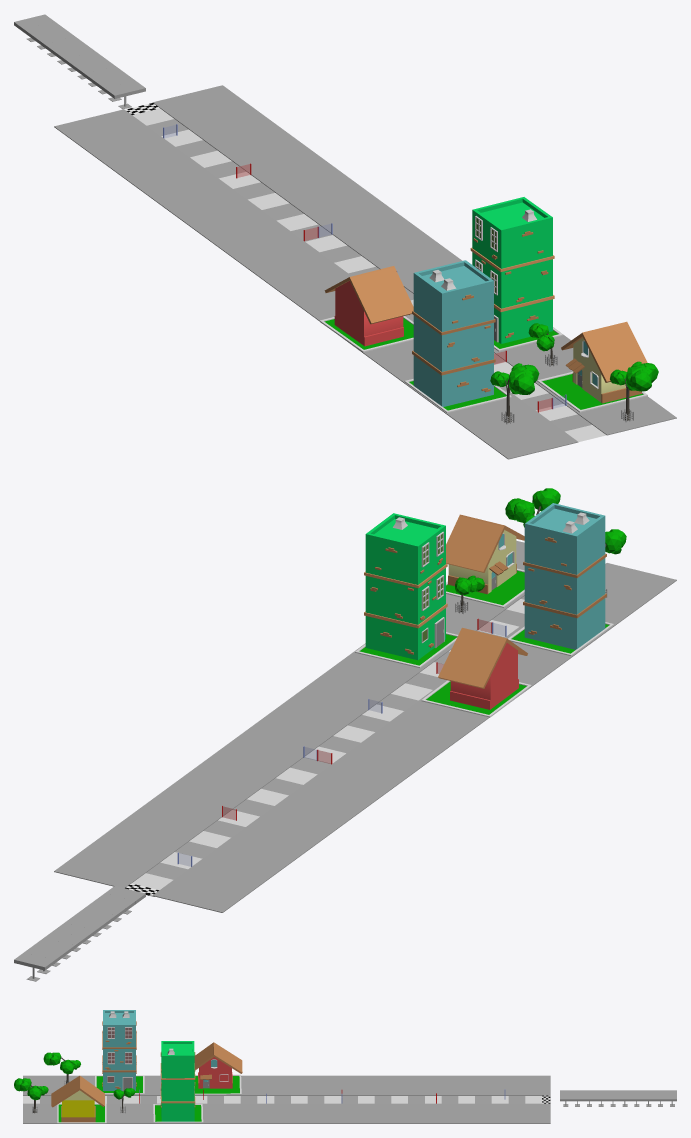
The model's file is Pizza oyunu yol ve binalar.fbx.
3 views of the same model, one above another, from view 1: azimuth 30°, elevation 25°; view 2: azimuth 150°, elevation 25°; view 3: azimuth 270°, elevation 25° (orthographic). The views are drawn at different scales.
Visible parts, largest first — view 1: pCube104, pCube55, bina (×2), pCube69 (×2), pCube61, pCube62, pCube77, pCube162, pCube76; view 2: pCube55, pCube104, bina (×2), pCube69 (×2), pCube62, pCube61, pCube77, pCube162, pCube167, pCube76; view 3: pCube55, pCube104, bina (×2), pCube69 (×2), pCube62 (×2), pCube61 (×2), pCube162, Icosphere (×2), pCube77, pCube167, pCube76.
Part boxes in pixels (x1,y1,x2,y2): pCube104: (54, 109, 578, 459); pCube55: (152, 85, 676, 435); bina (×2): (412, 197, 554, 406); pCube69 (×2): (334, 281, 641, 403); pCube61: (349, 267, 413, 324); pCube62: (581, 321, 647, 382); pCube77: (537, 371, 647, 412); pCube162: (319, 316, 413, 352); pCube76: (404, 379, 511, 412); pCube55: (54, 540, 524, 888); pCube104: (152, 563, 676, 912); bina (×2): (364, 503, 606, 660); pCube69 (×2): (448, 530, 518, 709); pCube62: (438, 627, 507, 688); pCube61: (446, 516, 505, 572); pCube77: (446, 568, 524, 607); pCube162: (421, 680, 531, 717); pCube167: (355, 632, 458, 667); pCube76: (508, 622, 613, 656); pCube55: (23, 1103, 550, 1123); pCube104: (23, 1075, 550, 1095); bina (×2): (102, 1010, 195, 1121); pCube69 (×2): (61, 1057, 232, 1122); pCube62 (×2): (51, 1042, 242, 1107); pCube61 (×2): (80, 1043, 213, 1106); pCube162: (194, 1074, 241, 1094); Icosphere (×2): (14, 1052, 61, 1091); pCube77: (57, 1103, 106, 1123); pCube167: (153, 1104, 203, 1122); pCube76: (95, 1075, 144, 1094).
Bounding box in the file's own units: 13.75 × 9.91 × 79.95.
Materials: 37 (1 with a texture image).
